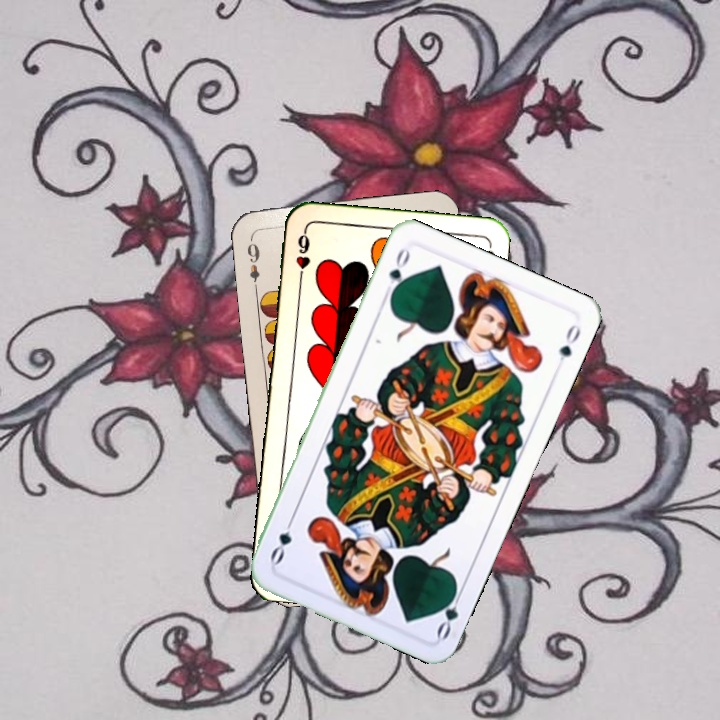E9: (242, 233, 262, 292)
GO: (432, 582, 466, 642), (380, 243, 413, 301)
H9: (291, 226, 313, 286)
